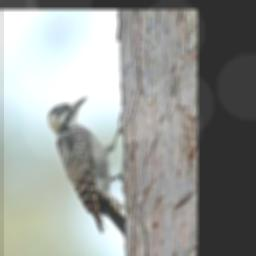Woodpecker: (44, 96, 133, 240)
